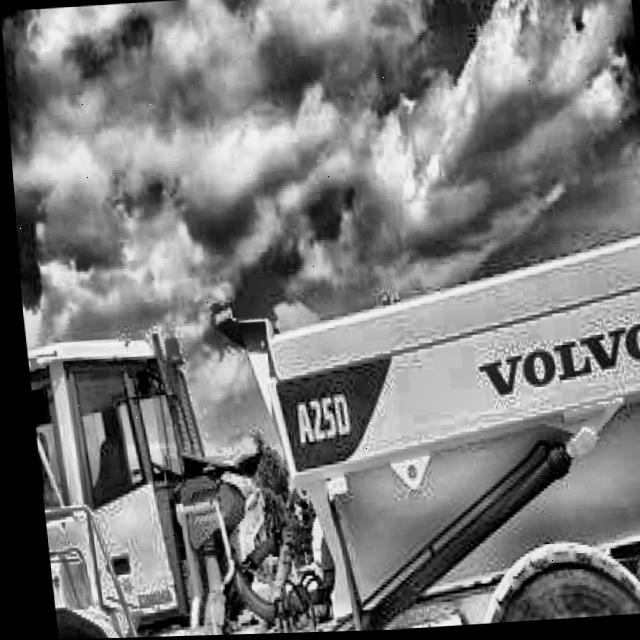dump_truck: (12, 192, 640, 640)
